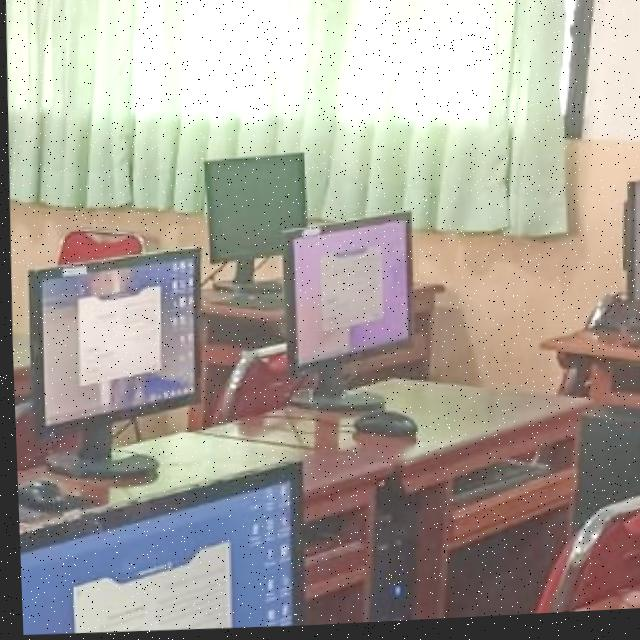offscreen: (202, 160, 304, 269)
onscreen: (16, 474, 292, 633), (26, 250, 195, 481), (282, 216, 406, 372)
